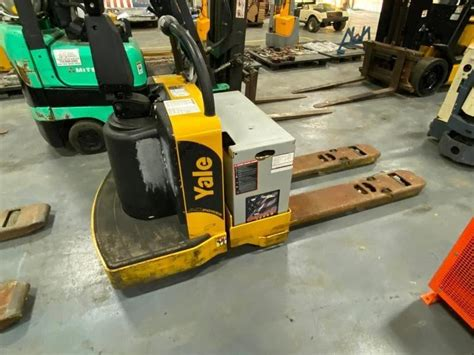Pallet Jack: (86, 6, 425, 289)
